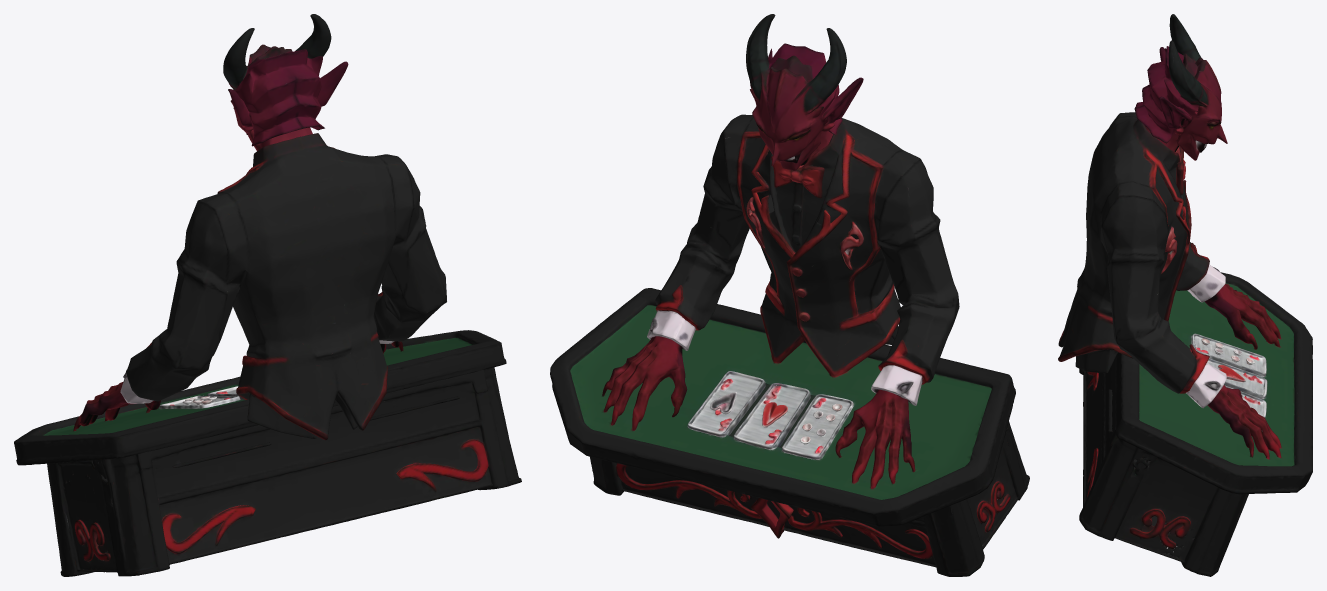
The model's file is lootbag_yellow.glb.
3 renders of one model, left to right at view 1: azimuth 30°, elevation 25°; view 2: azimuth 150°, elevation 25°; view 3: azimuth 270°, elevation 25°, orthographic. The views are drawn at different scales.
Parts seen in each view (by area): view 1: world; view 2: world; view 3: world.
Boxes of the visible parts, box(x1,y1,x2,y2) form: world: box(14, 14, 521, 576); world: box(550, 14, 1029, 576); world: box(1058, 14, 1312, 576).
Bounding box in the file's own units: 0.8571 × 0.9416 × 0.4637.
1 material, 1 textured.
